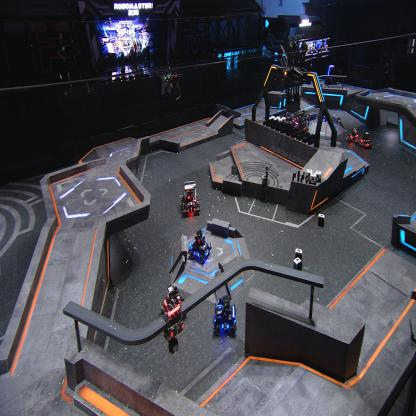car: (213, 294, 237, 337), (159, 284, 184, 321), (188, 228, 212, 264), (181, 180, 201, 216), (294, 110, 310, 136), (358, 130, 374, 150), (345, 126, 359, 147), (282, 111, 296, 131)
